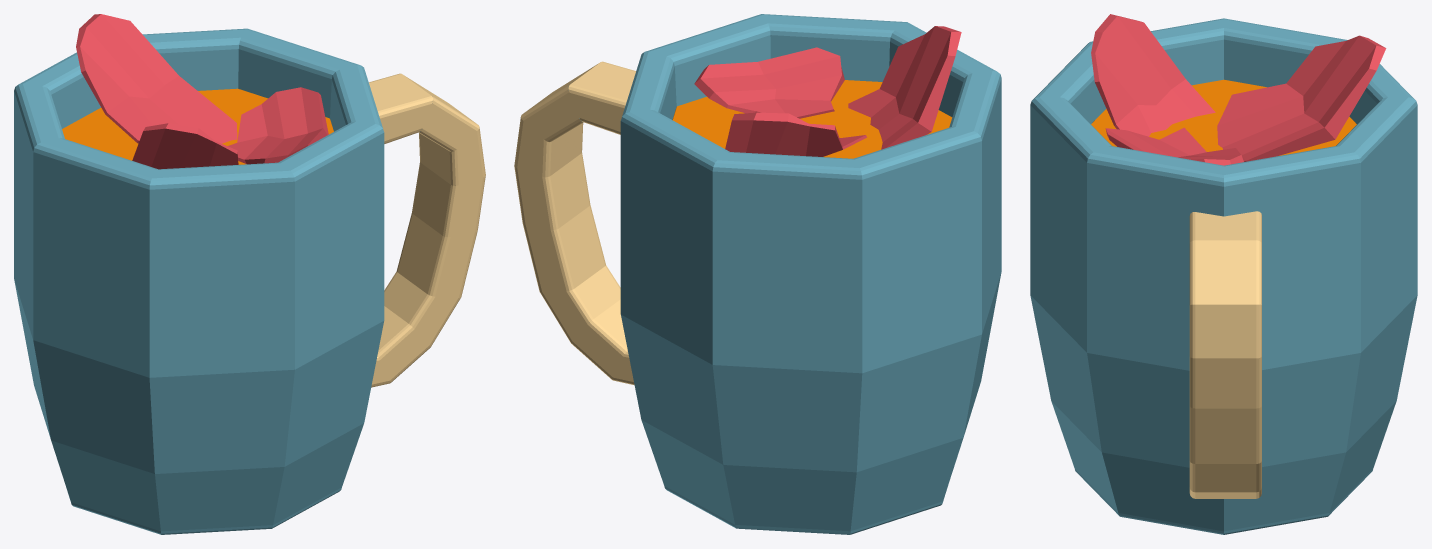
Rendered from Cup (filled) Rose.fbx.
3 renders of one model, left to right at view 1: azimuth 30°, elevation 25°; view 2: azimuth 150°, elevation 25°; view 3: azimuth 270°, elevation 25°, orthographic. The views are drawn at different scales.
Parts seen in each view (by area): view 1: CupFilledRose; view 2: CupFilledRose; view 3: CupFilledRose.
Boxes of the visible parts, x1,y1,x2,y2 form: CupFilledRose: (14,14,485,534); CupFilledRose: (514,14,1001,534); CupFilledRose: (1030,14,1417,534).
Size of the model in its own units: 39.57 by 35.63 by 30.
